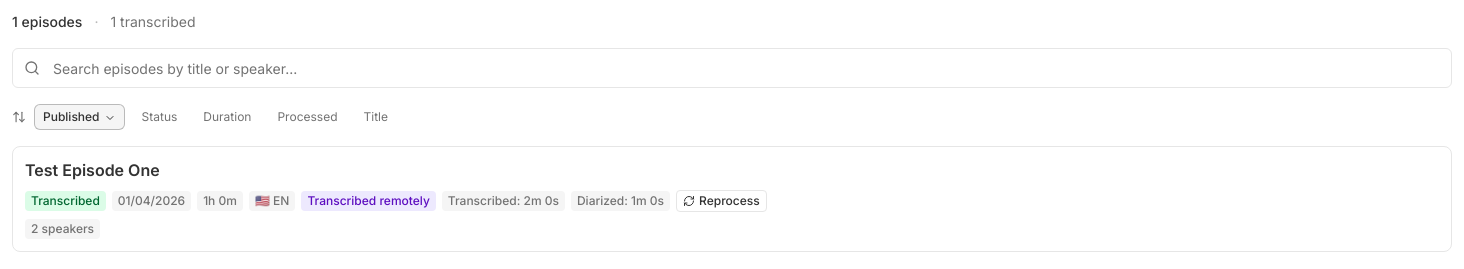
Test: EpisodesList — search / filter › shows empty state when no episodes match search
The width and height of the screenshot is (1464, 269).
Type "xyz" into the field labelled "Search episodes by title or speaker".
click(732, 68); type("xyz")  # box [12,48,1452,88]
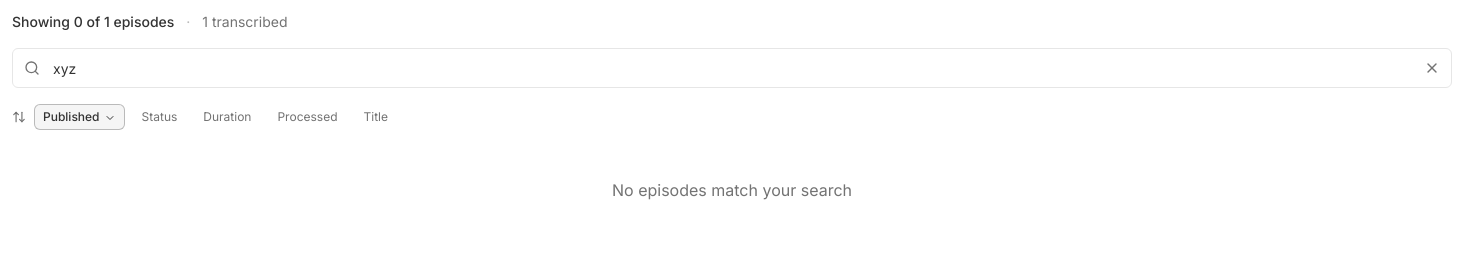
Expected: the text "No episodes match your search" is shown, [612,180,852,200]
Expected: the text "Test Episode One" is gone
